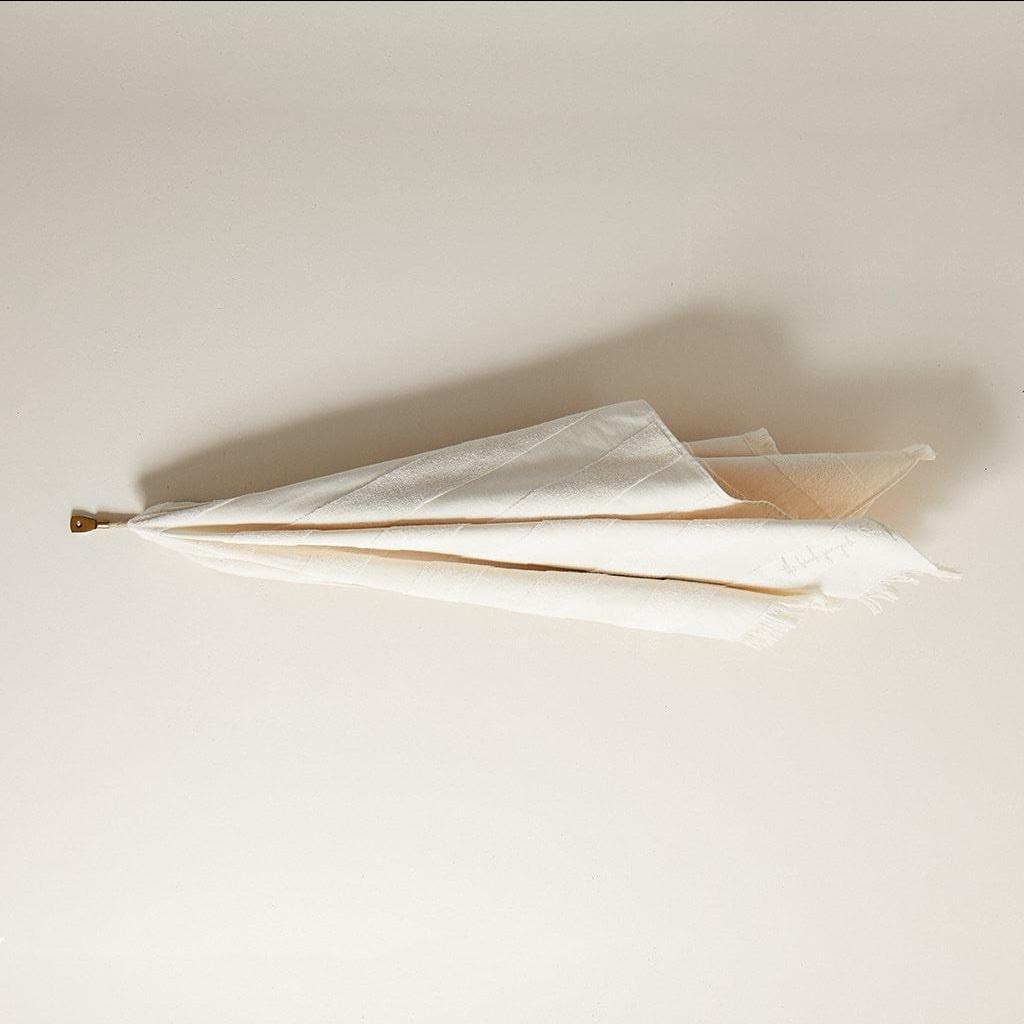towel: (25, 382, 1022, 710)
